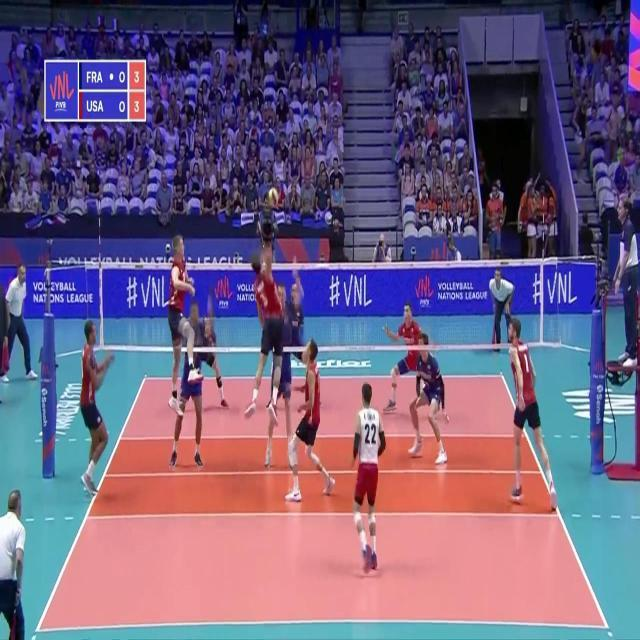volleyball: (268, 188, 278, 208)
